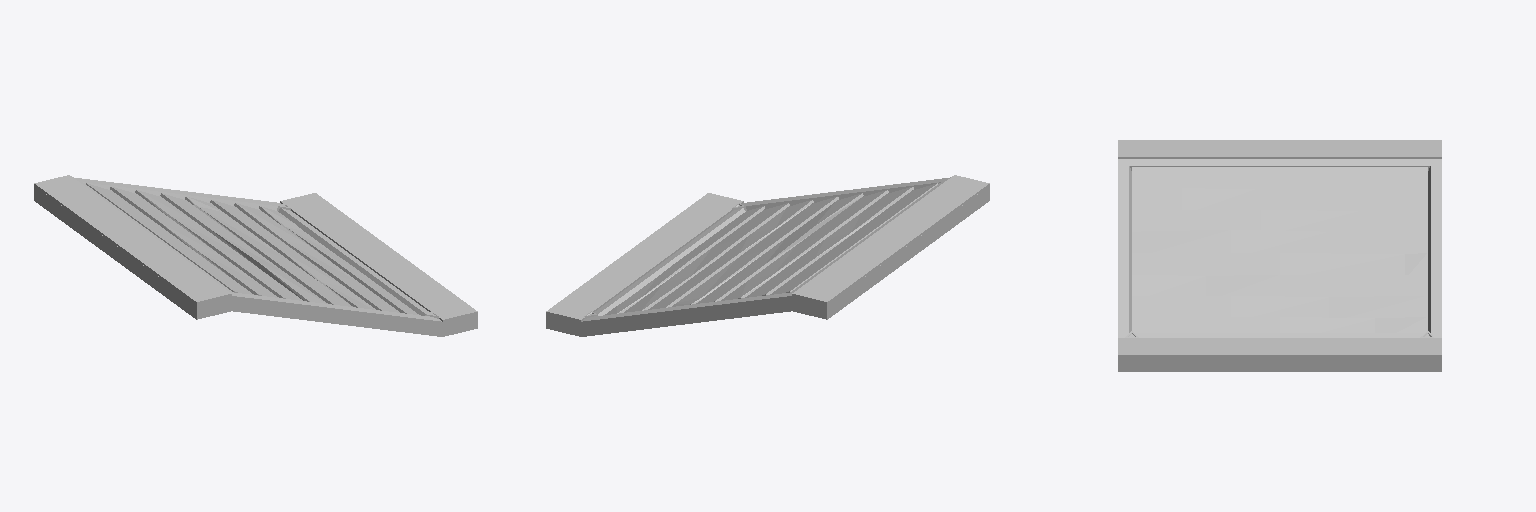
The model's file is Platform-ram 1.obj.
3 views of the same model, side by side, from view 1: azimuth 30°, elevation 25°; view 2: azimuth 150°, elevation 25°; view 3: azimuth 270°, elevation 25° (orthographic).
Visible parts, largest first — view 1: Cube.003_Cube.001; view 2: Cube.003_Cube.001; view 3: Cube.003_Cube.001.
Part boxes in pixels (left/top/right/bottom): Cube.003_Cube.001: left=34, top=175, right=477, bottom=336; Cube.003_Cube.001: left=546, top=175, right=989, bottom=336; Cube.003_Cube.001: left=1118, top=140, right=1441, bottom=371.
Size of the model in its own units: 7.96 by 2.57 by 7.96.